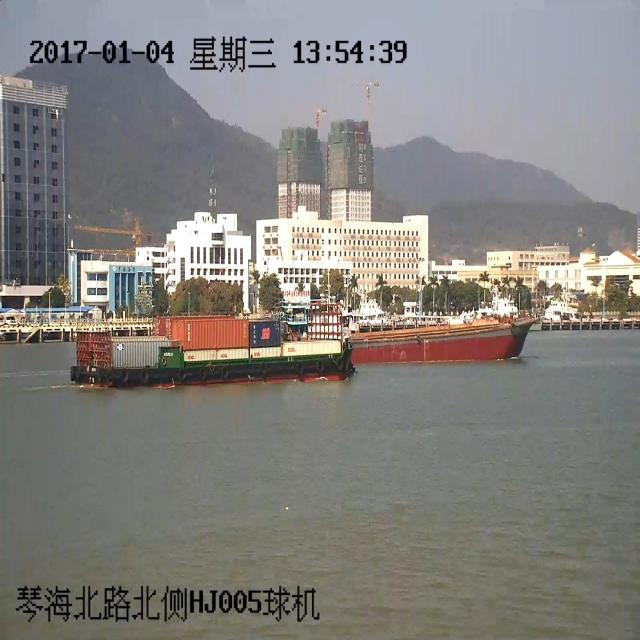cargoship: (75, 306, 356, 397), (357, 292, 532, 357)
